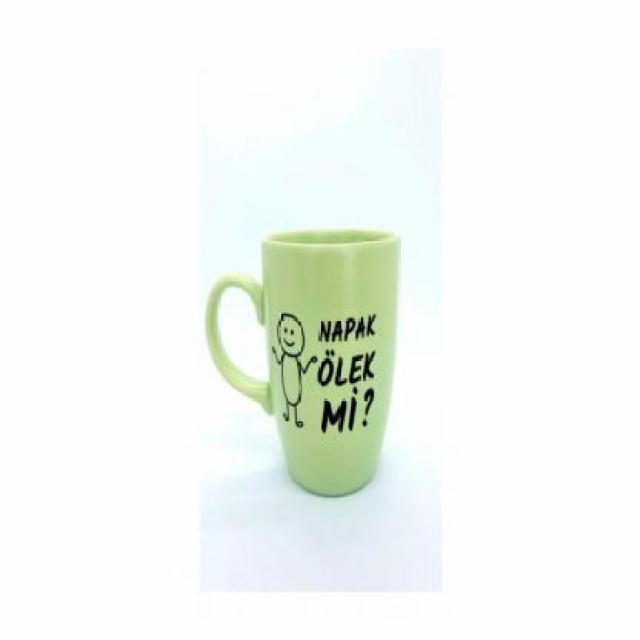taza: (206, 228, 401, 500)
